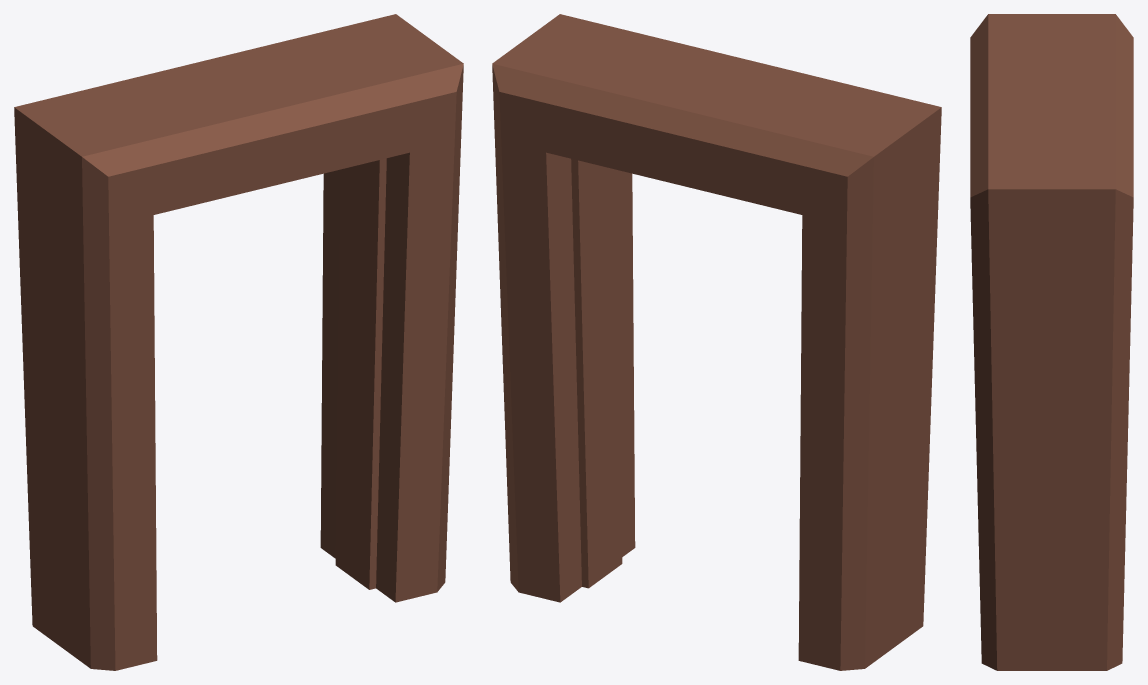
The model's file is Doorway.fbx.
3 renders of one model, left to right at view 1: azimuth 30°, elevation 25°; view 2: azimuth 150°, elevation 25°; view 3: azimuth 270°, elevation 25°, orthographic. The views are drawn at different scales.
Parts seen in each view (by area): view 1: Doorway; view 2: Doorway; view 3: Doorway.
Boxes of the visible parts, box(x1,y1,x2,y2) form: Doorway: box(14, 14, 463, 670); Doorway: box(492, 14, 941, 670); Doorway: box(970, 14, 1133, 670).
Size of the model in its own units: 395 by 512 by 156.
